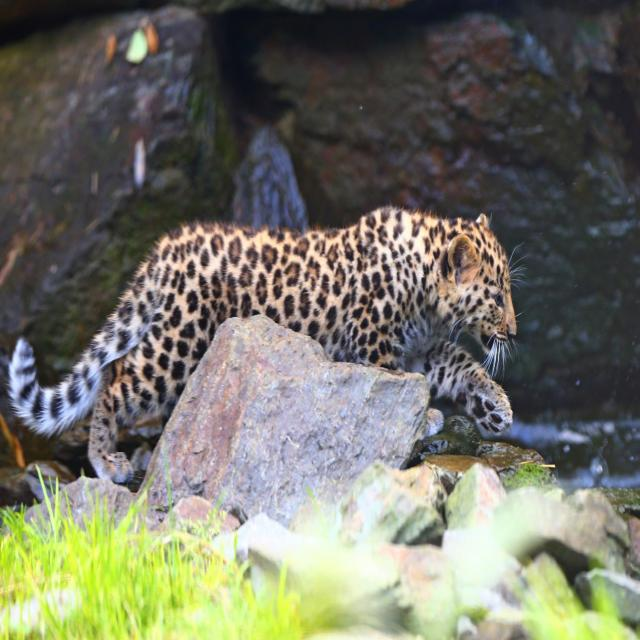Leopard: (6, 206, 518, 504)
